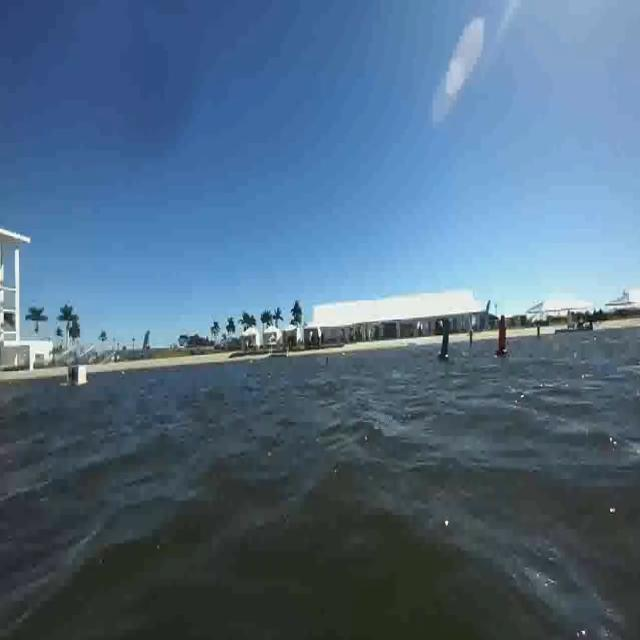green-column-buoy: (438, 321, 454, 362)
red-column-buoy: (495, 316, 510, 359)
